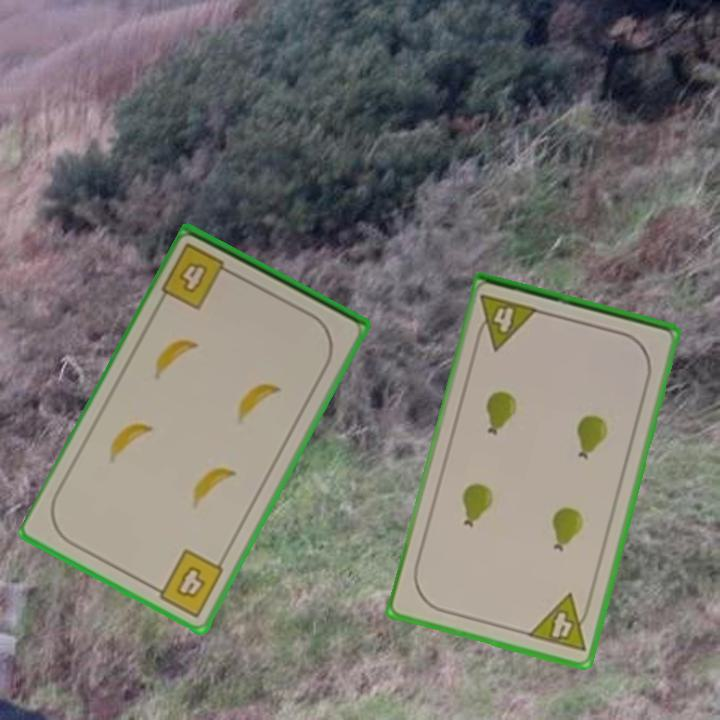4b: (148, 545, 227, 621), (158, 239, 239, 313)
4p: (524, 590, 595, 655), (471, 291, 541, 353)
